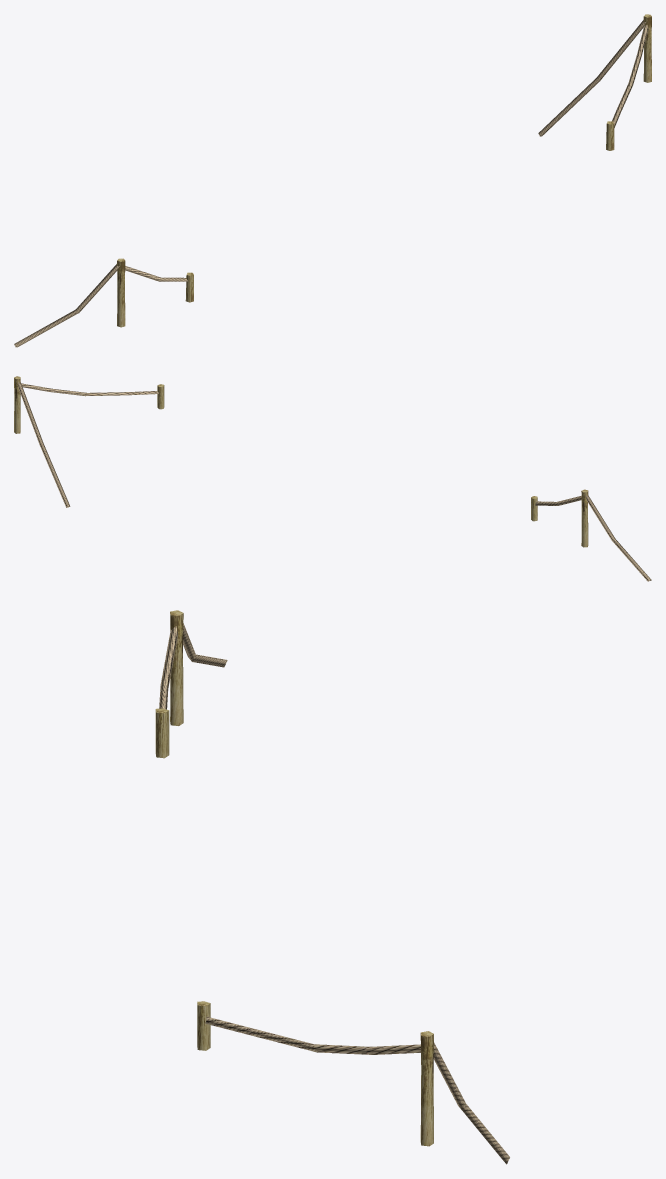
The model's file is track_chinese_env_woodensupports_02.FBX.
3 views of the same model, one above another, from view 1: azimuth 30°, elevation 25°; view 2: azimuth 150°, elevation 25°; view 3: azimuth 270°, elevation 25° (orthographic). The views are drawn at different scales.
Parts seen in each view (by area): view 1: track_chinese_env_woodensupports_02; view 2: track_chinese_env_woodensupports_02; view 3: track_chinese_env_woodensupports_02.
Boxes of the visible parts, box(x1,y1,x2,y2) form: track_chinese_env_woodensupports_02: box(14, 14, 651, 347); track_chinese_env_woodensupports_02: box(14, 376, 651, 581); track_chinese_env_woodensupports_02: box(155, 610, 509, 1164).
Bounding box in the file's own units: 39.86 × 6.48 × 10.45.
